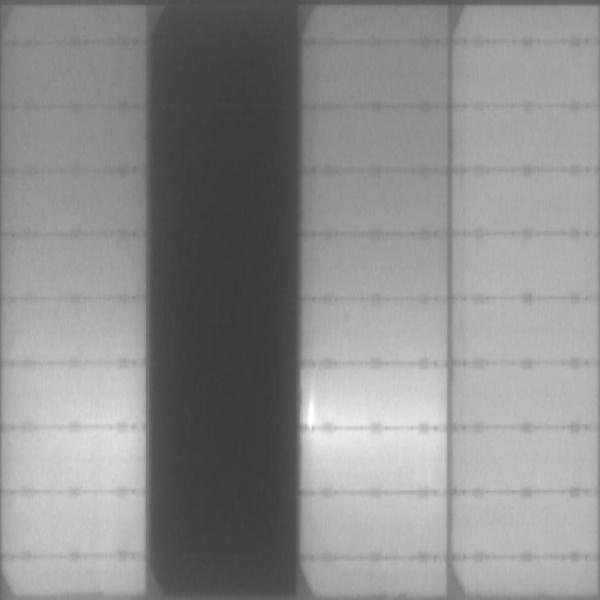hot_spot: (305, 396, 318, 427)
no_electricity: (146, 6, 298, 596)
